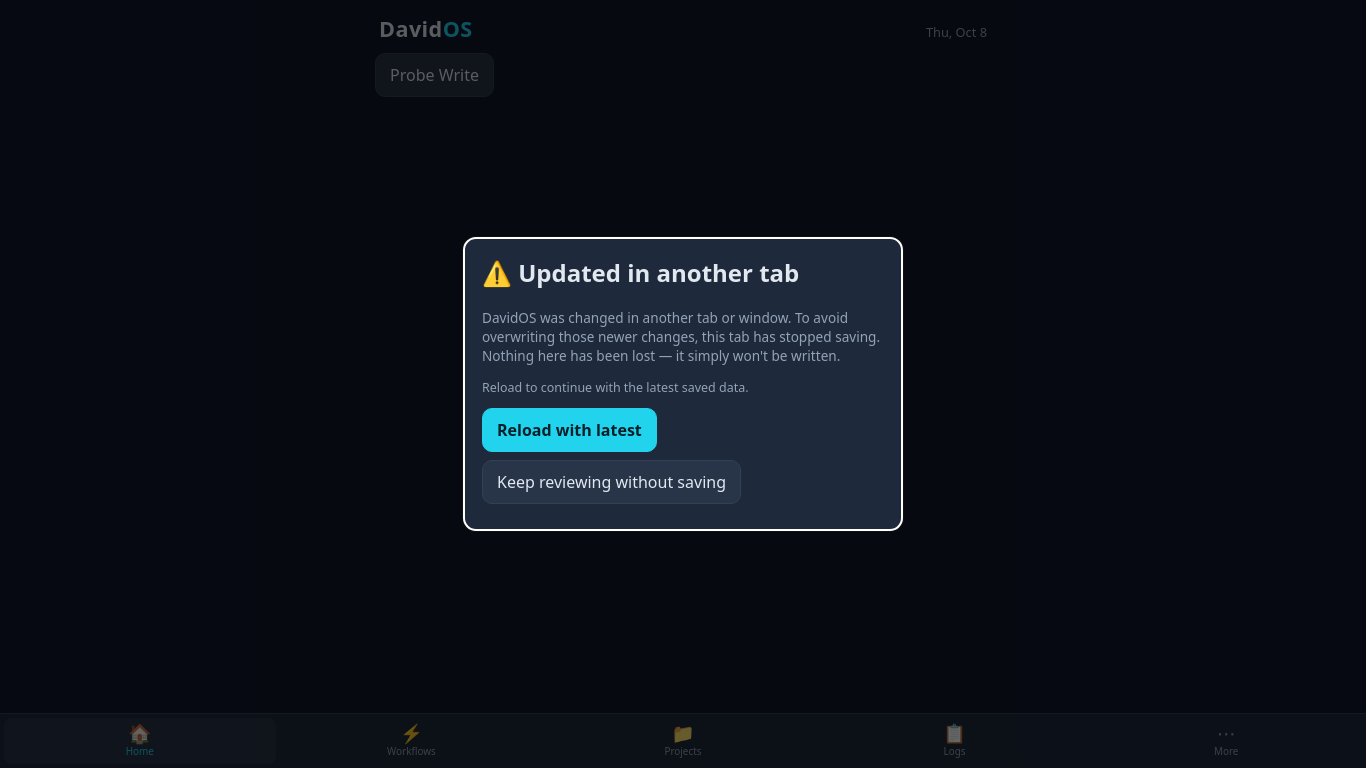
Test: stale-tab dialog accessibility (F-08) › the persistent warning can reopen the dialog, which is dismissible again
Press Escape in the dialog, box [463,236,903,532]
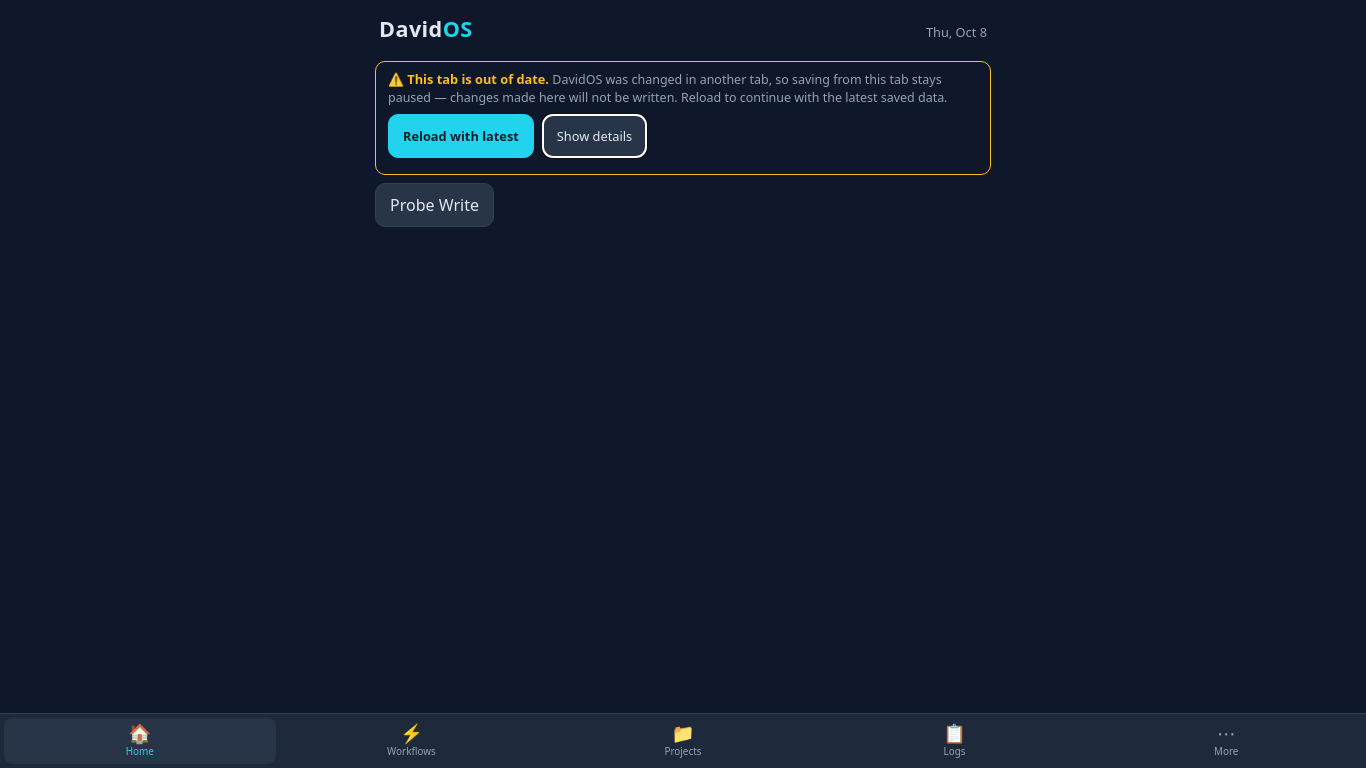
Check: the dialog with test id "crosstab-guard" is gone
Click the button "Show details": (594, 136) [542,114,647,158]
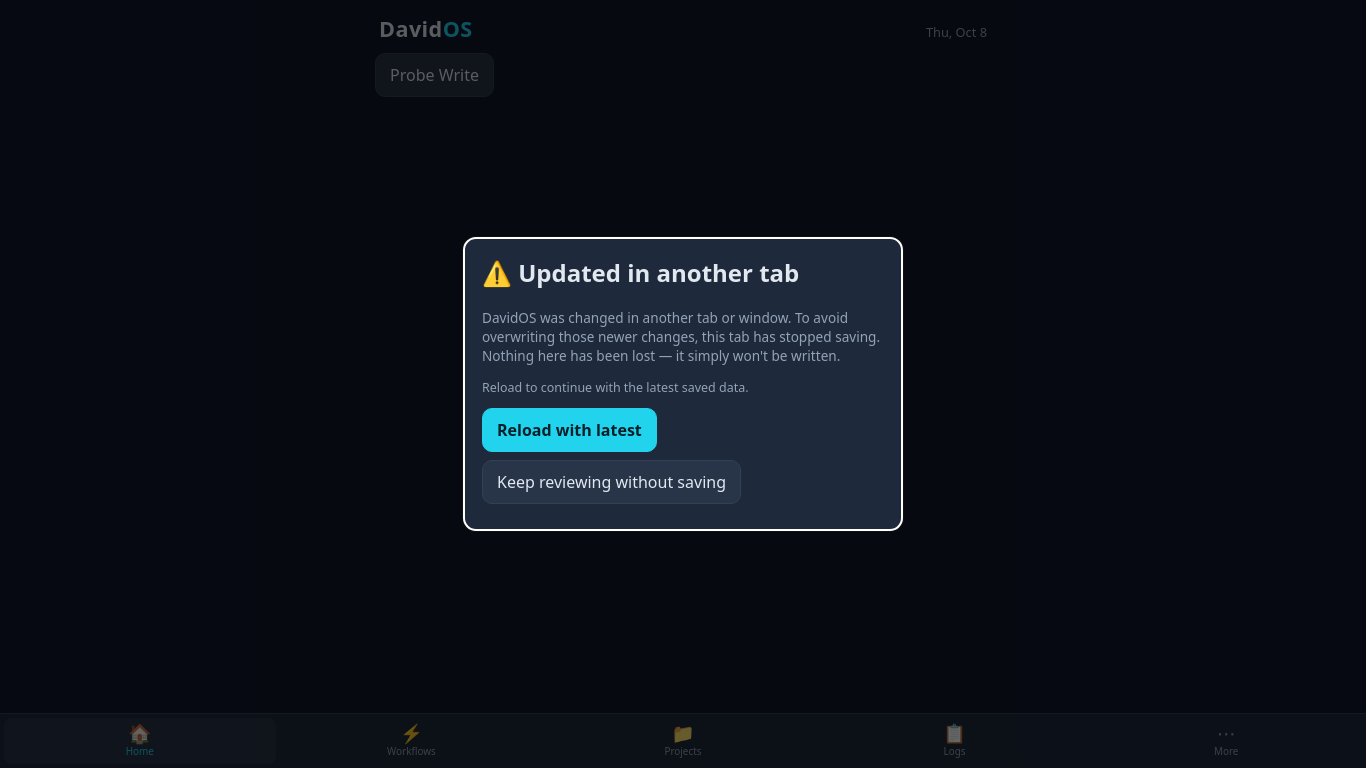
Check: the dialog with test id "crosstab-guard" is shown
Press Escape in the dialog with test id "crosstab-guard", box [463,236,903,532]
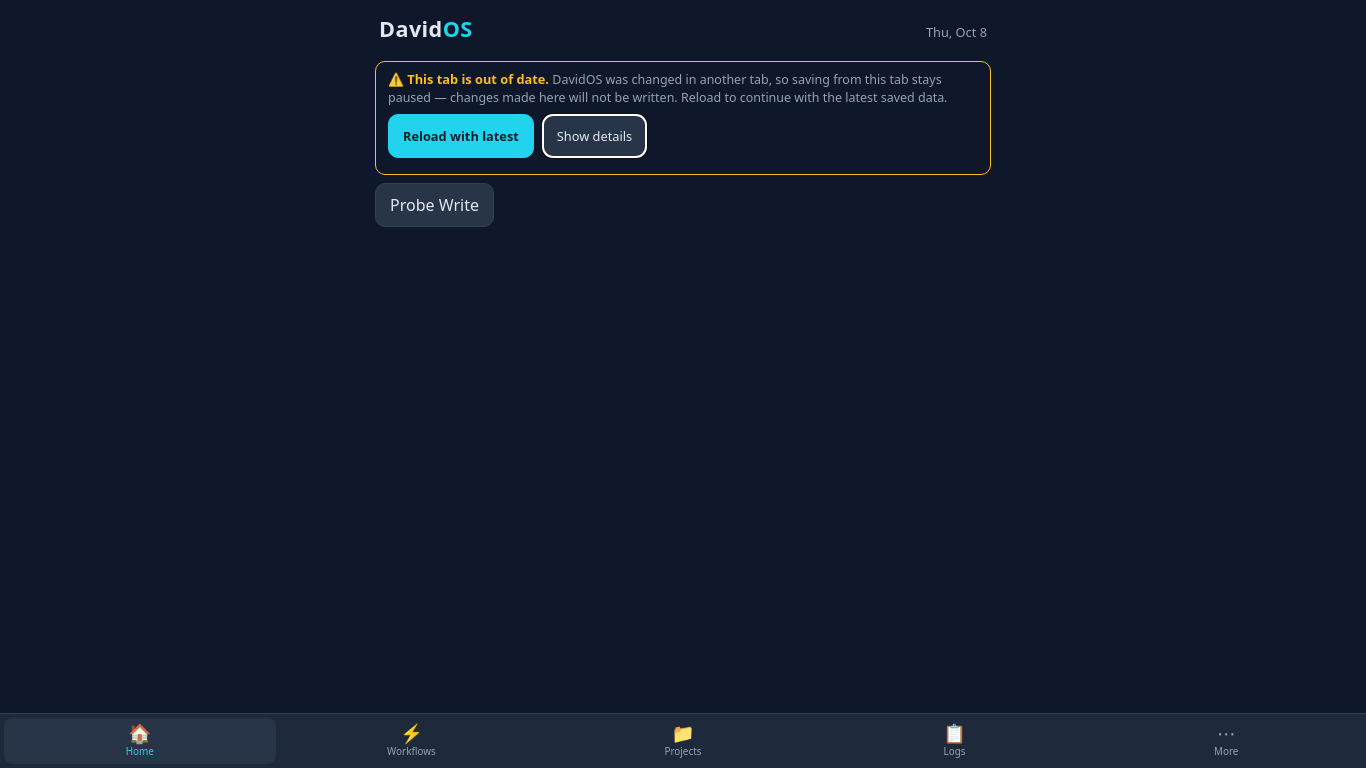
Check: the dialog with test id "crosstab-guard" is gone
Check: the message with test id "crosstab-stale-banner" is shown, box [375,61,991,175]
